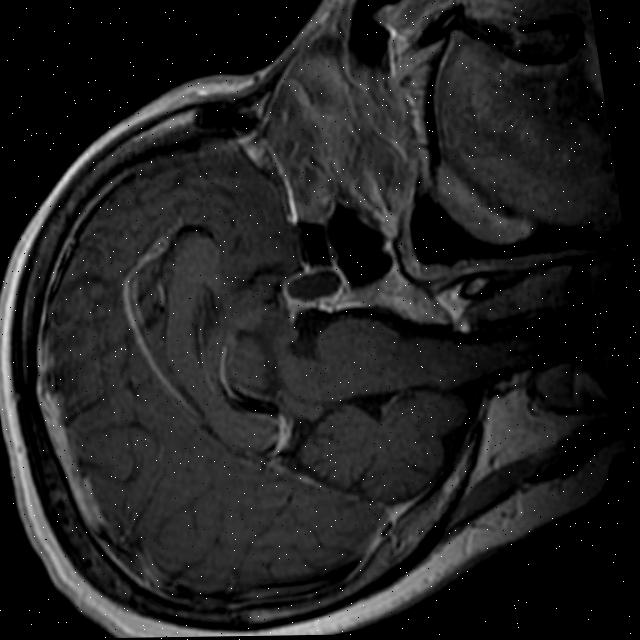Pituitary: (277, 263, 349, 311)
